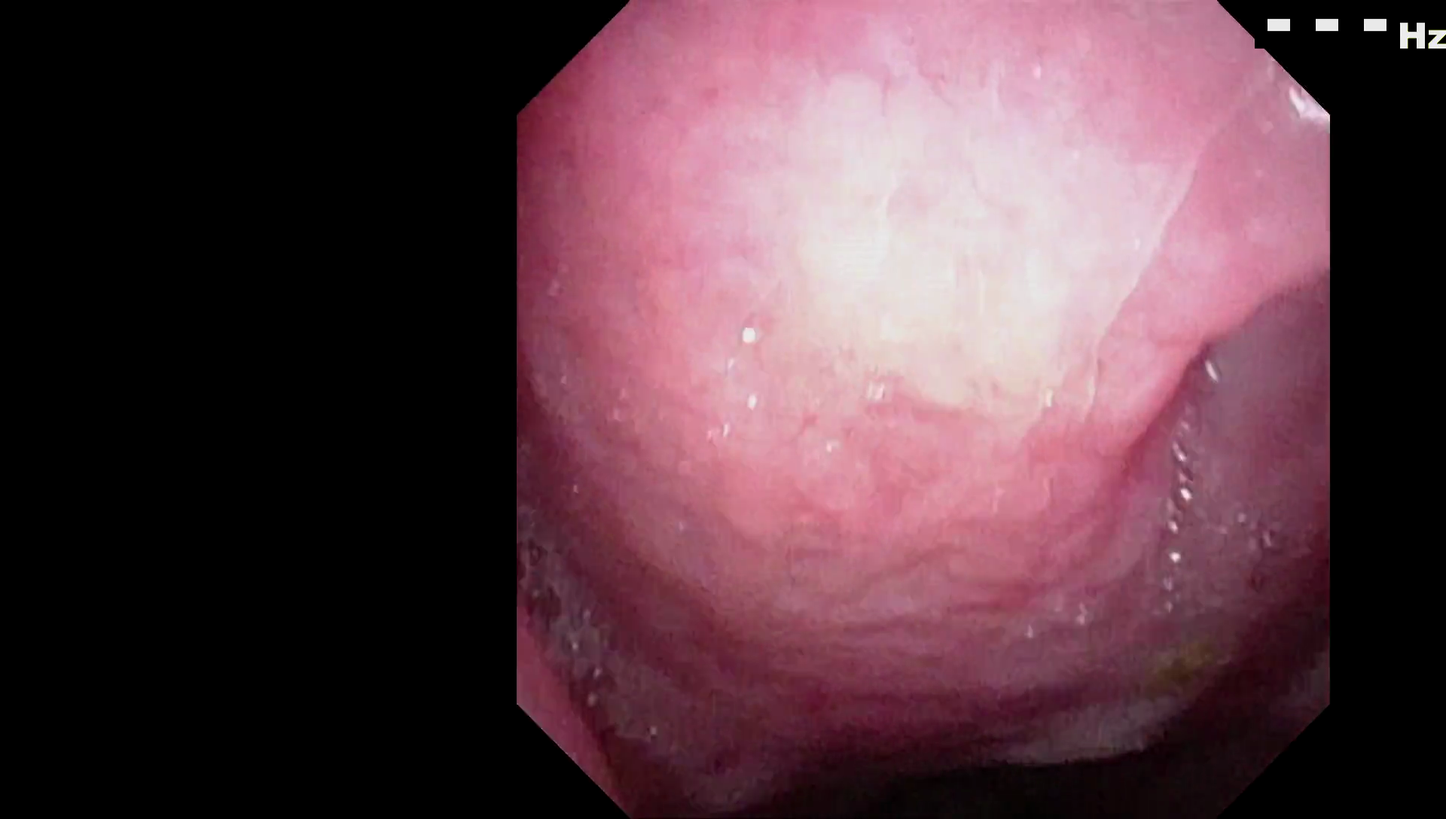close_wall: (584, 46, 1218, 581)
next: (712, 647, 1267, 819)
